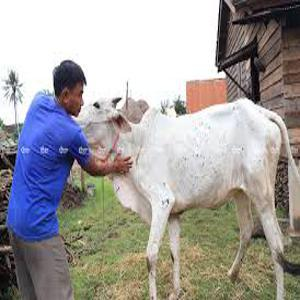lumpy skin diesease: (73, 94, 299, 299)
